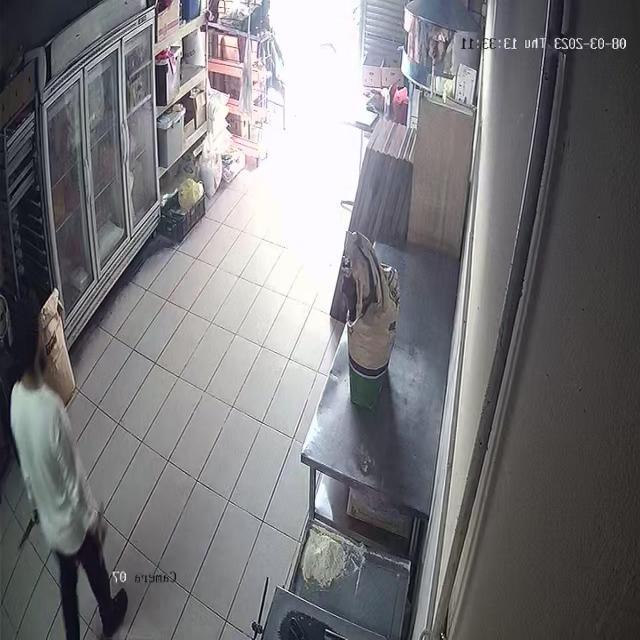Knife: (10, 513, 46, 554)
